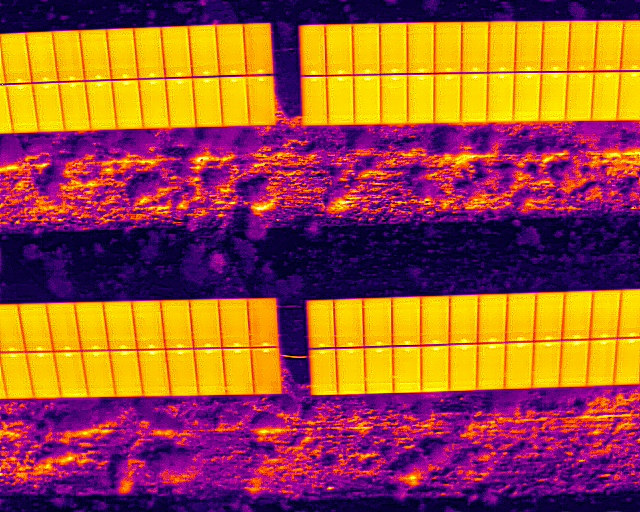photovoltaic_panels: (299, 18, 638, 127), (305, 288, 639, 397), (0, 22, 275, 135), (1, 296, 284, 401)
